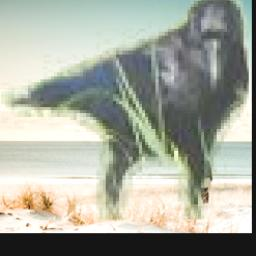Crow: (2, 0, 250, 219)
